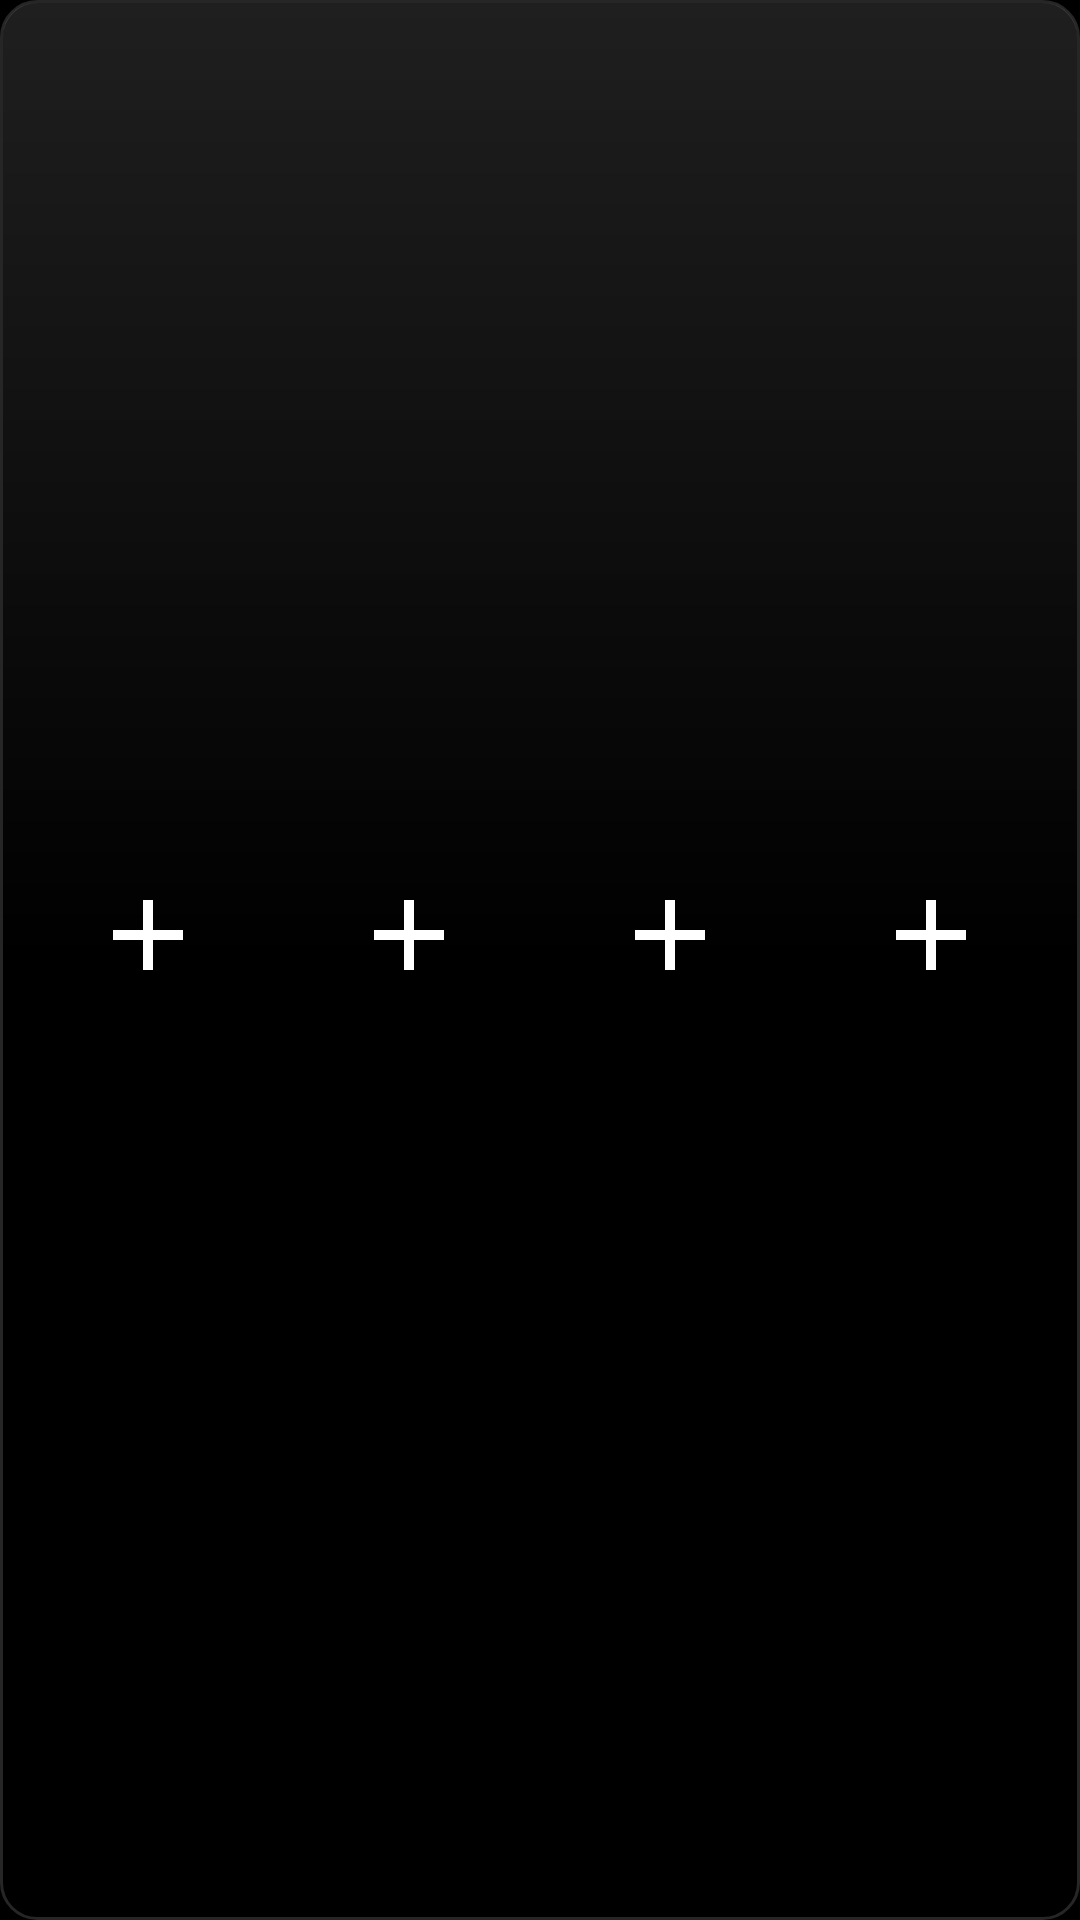

Screen size 1080x1920. Icon name, then its center in pixels as [x,y]:
belle add: [148,935], [409,935], [670,935], [931,935]
